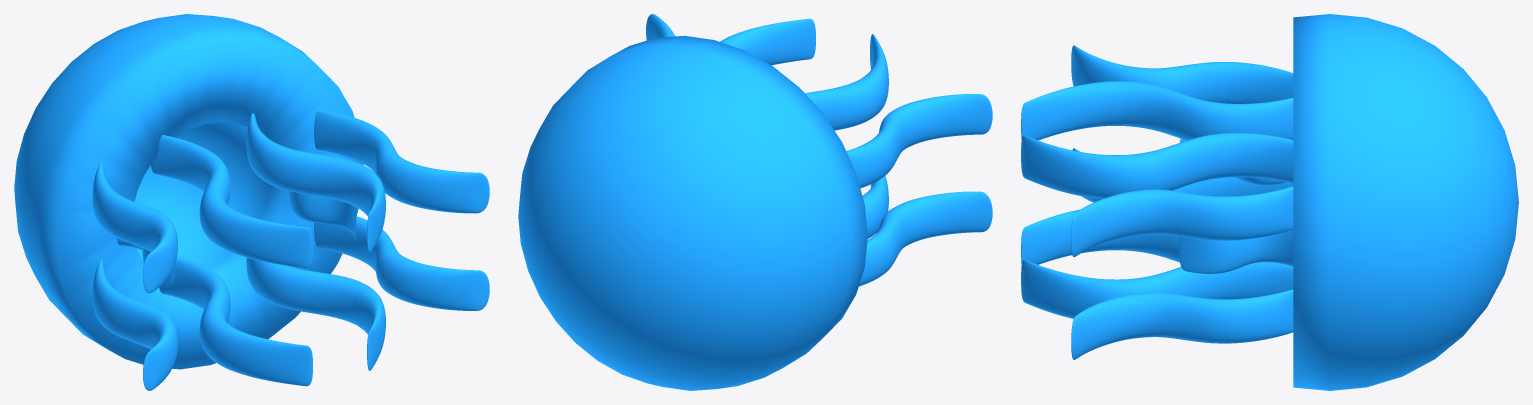
Rendered from jelly4.gltf.
3 renders of one model, left to right at view 1: azimuth 30°, elevation 25°; view 2: azimuth 150°, elevation 25°; view 3: azimuth 270°, elevation 25°, orthographic. The views are drawn at different scales.
Parts seen in each view (by area): view 1: head; view 2: head; view 3: head.
Part boxes in pixels (x1,y1,x2,y2): head: (14, 14, 489, 390); head: (518, 14, 992, 390); head: (1021, 14, 1518, 390).
Bounding box in the file's own units: 4.08 × 3.65 × 4.82.
